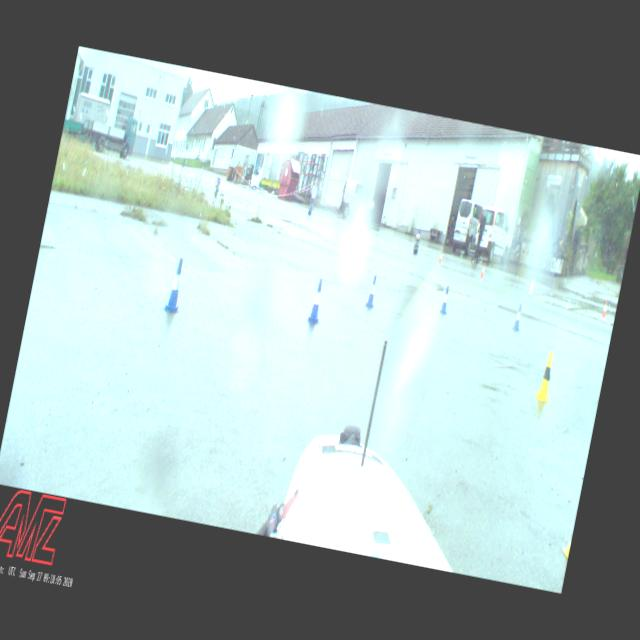blue_cone: (162, 256, 190, 314), (306, 278, 328, 325), (364, 274, 380, 310), (438, 285, 452, 315), (512, 303, 525, 332)
orange_cone: (602, 300, 610, 318), (529, 280, 535, 294), (480, 264, 486, 278), (438, 252, 443, 264)
yellow_cone: (535, 351, 559, 402)
